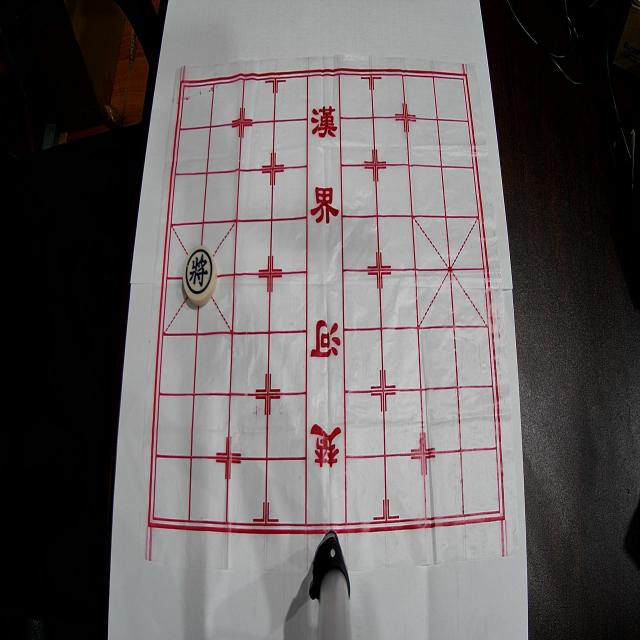black-general: (183, 245, 217, 306)
